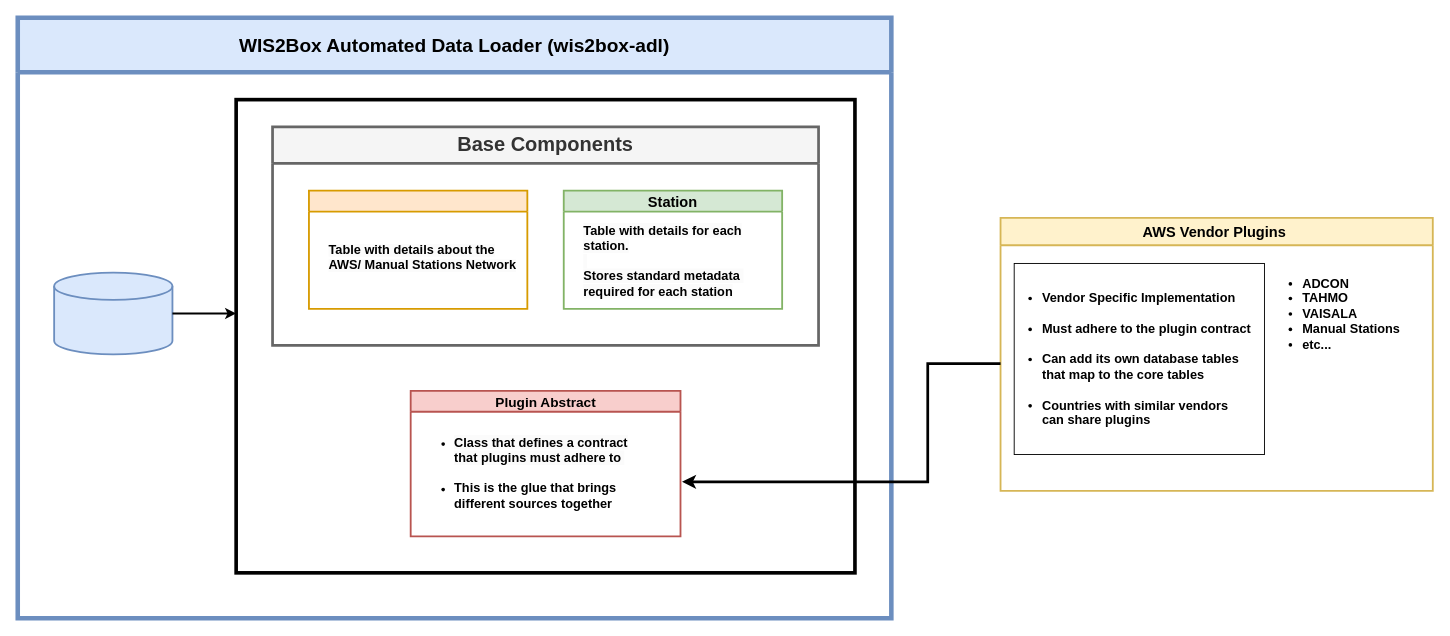
The diagram is 1450 pixels wide and 636 high, and some of its shapes have lost their labels. The centre of each missing label's shape, as x and y in pixels:
Network: (418,249)
Postgres Database: (113,313)
